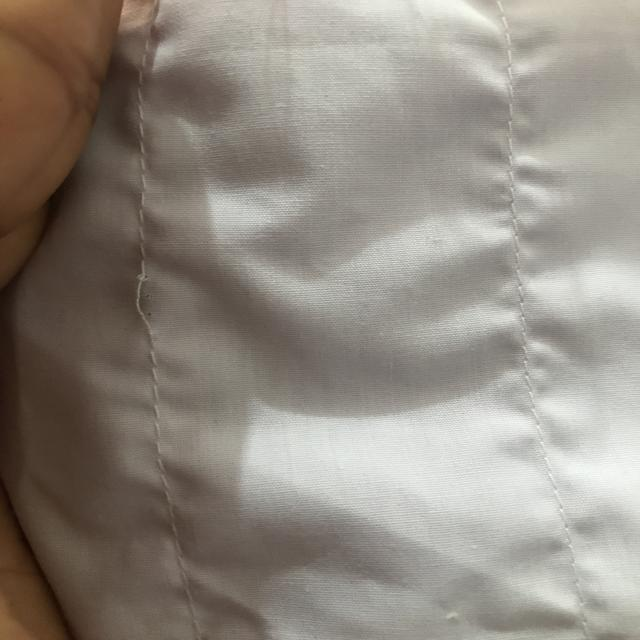good: (503, 234, 545, 392), (492, 64, 532, 196), (129, 103, 160, 232)
skip: (121, 257, 174, 346)
